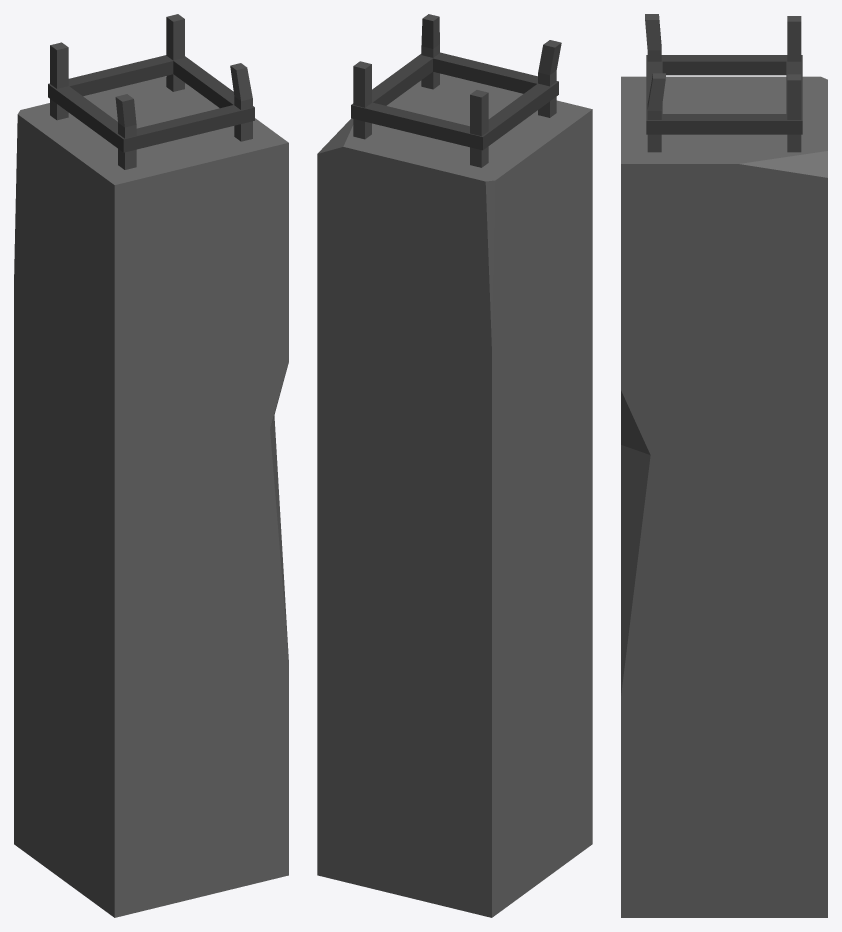
Rendered from WallCorner_02.fbx.
The picture shows the model from 3 angles, left to right: view 1: azimuth 30°, elevation 25°; view 2: azimuth 150°, elevation 25°; view 3: azimuth 270°, elevation 25°; orthographic projection. The views are drawn at different scales.
Visible parts, largest first — view 1: WallCorner_02; view 2: WallCorner_02; view 3: WallCorner_02.
Boxes of the visible parts, <box> form: WallCorner_02: <box>14,14,288,917</box>; WallCorner_02: <box>317,14,592,917</box>; WallCorner_02: <box>621,14,827,917</box>.
Size of the model in its own units: 49.76 by 219 by 49.76.
